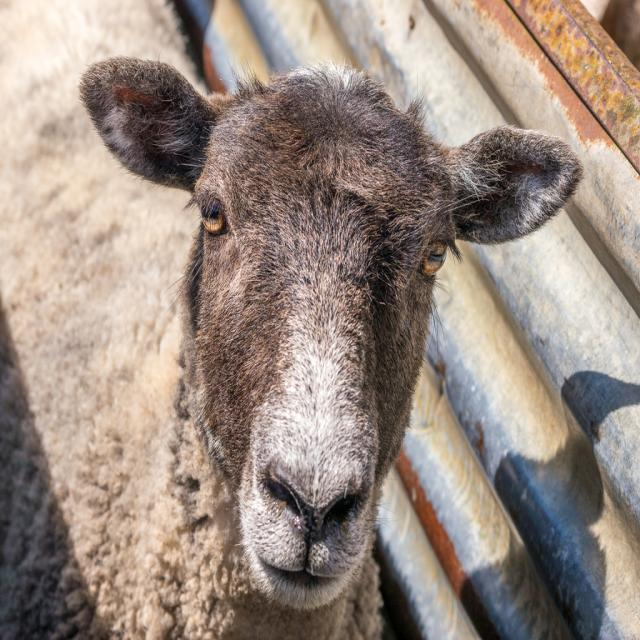Sheep: (0, 0, 582, 639)
